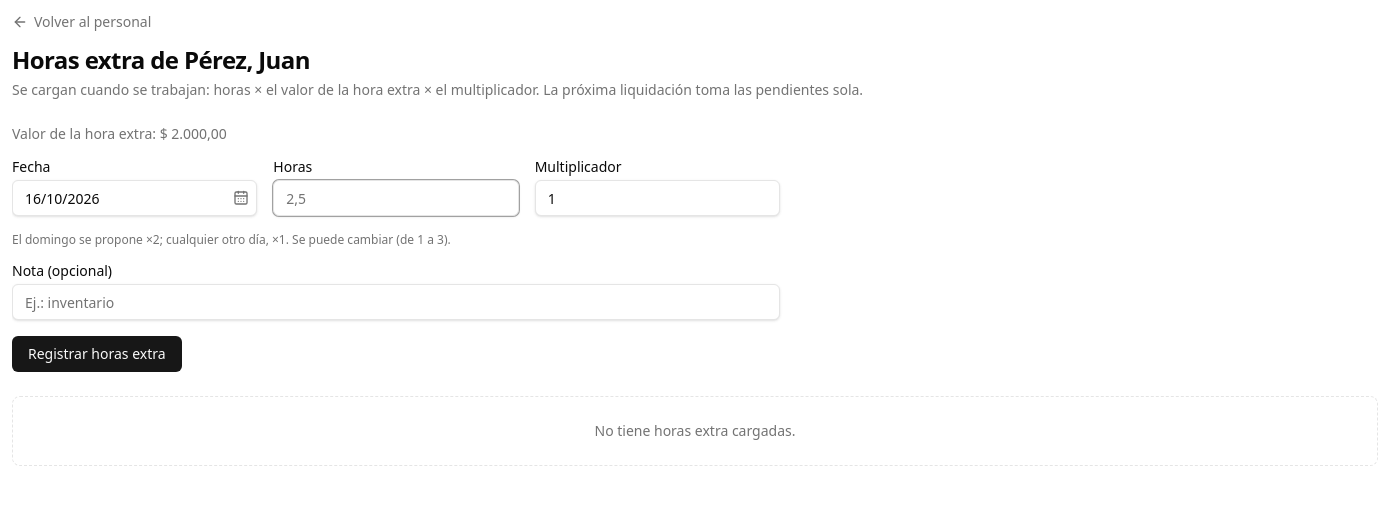
EmployeeOvertimePage › records overtime proposing x2 on a Sunday, previews its amount and lists it as pending
Check: the text "No tiene horas extra cargadas." is shown, box [12,396,1377,466]
Replace the text in the field labelled "Fecha" with "2026-10-11" at (135, 198), box [12,180,257,216]
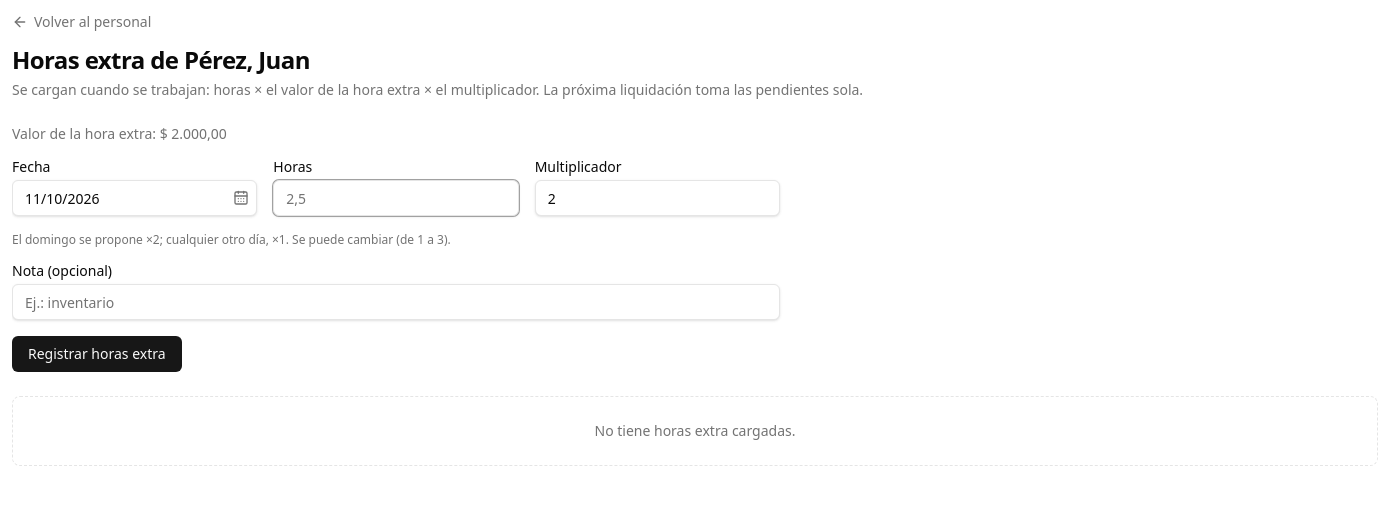
Check: the field labelled "Multiplicador" holds "2", box [535,180,780,216]
Type "4" into the field labelled "Horas" at (396, 198), box [273,180,519,216]
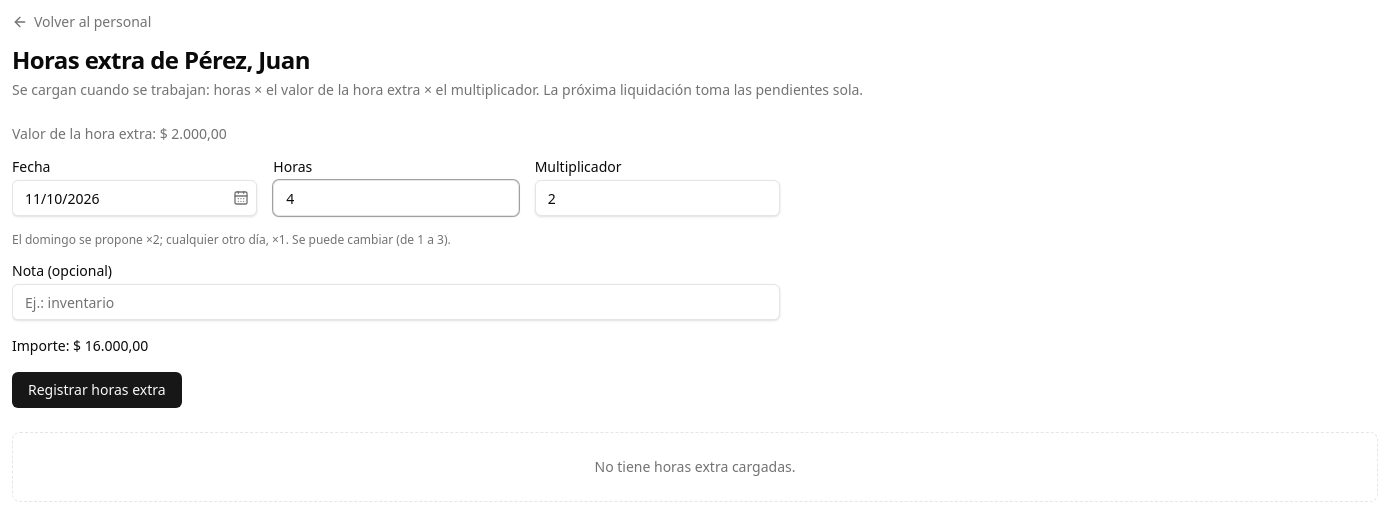
Type "Inventario" into the field labelled "Nota (opcional)" at (396, 302), box [12,284,780,320]
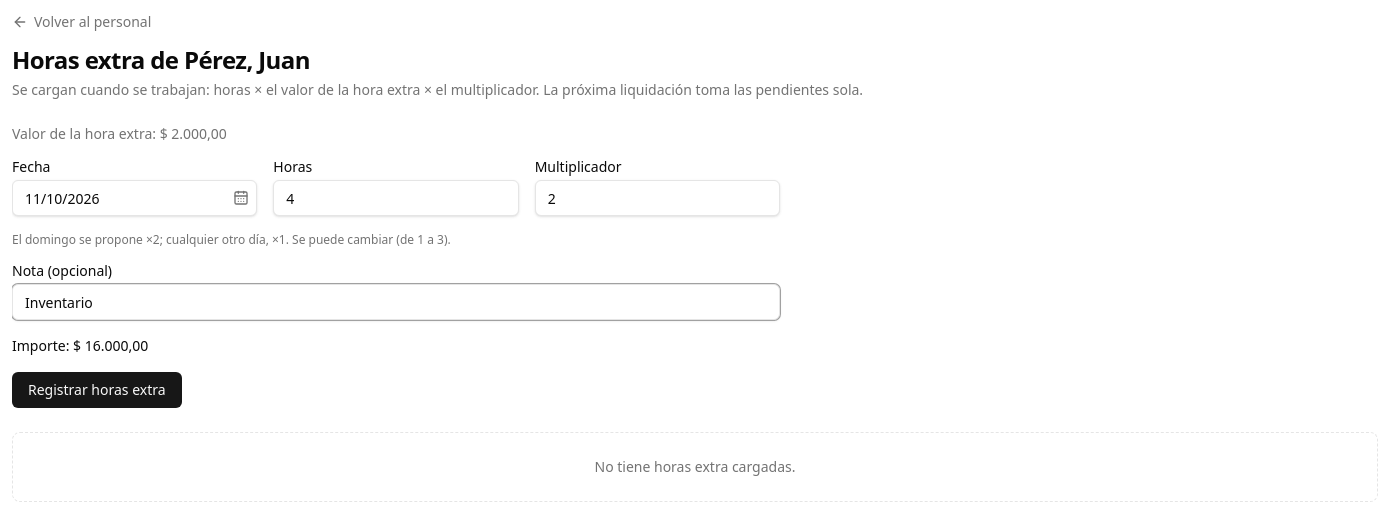
Check: the text "Importe: $ 16.000,00" is shown, box [12,336,148,355]
Click the button "Registrar horas extra" at (97, 390), box [12,372,182,408]
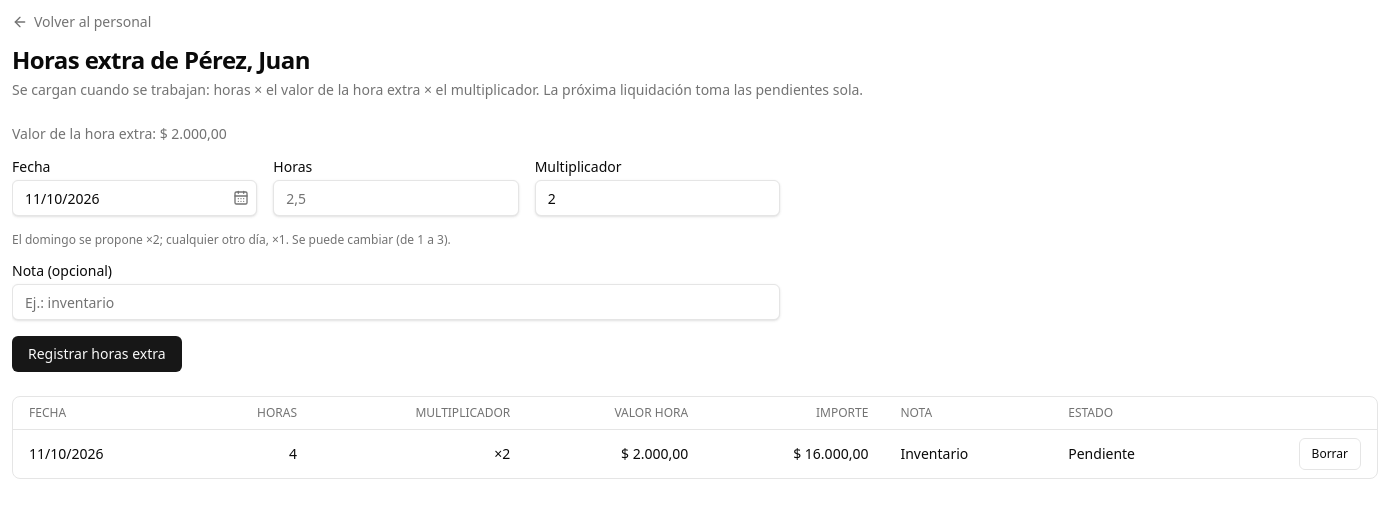
Check: the text "$ 16.000,00" is shown, box [704,430,884,478]
Check: the text "11/10/2026" is shown, box [13,430,192,478]
